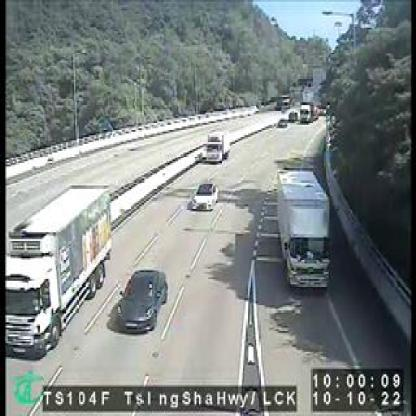Bus: (6, 185, 112, 362)
Car: (114, 266, 168, 334), (190, 182, 218, 210), (276, 116, 288, 129)
Truck: (279, 169, 330, 290), (205, 128, 229, 164)
